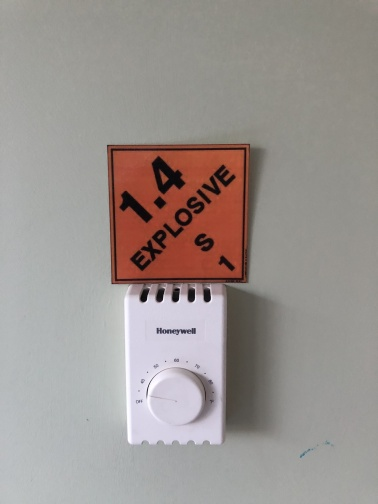Explosive: (108, 146, 245, 279)
